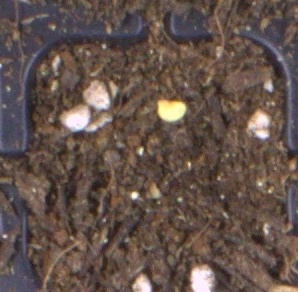chilli seed: (155, 98, 186, 122)
